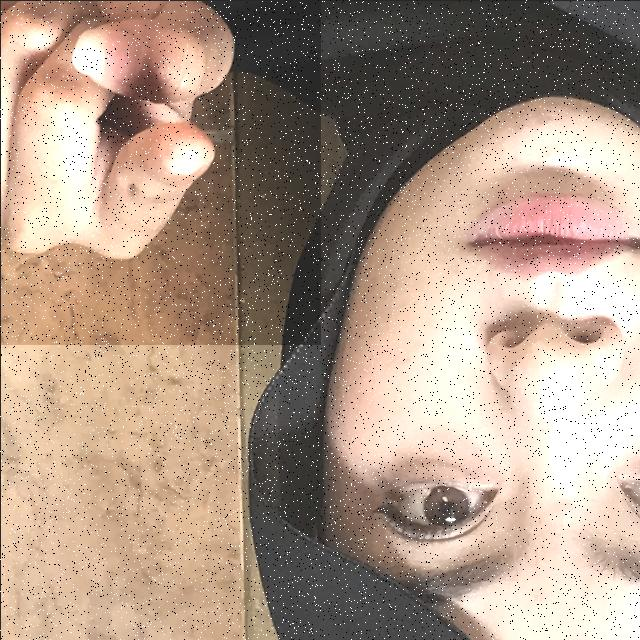kamu: (0, 0, 320, 344)
